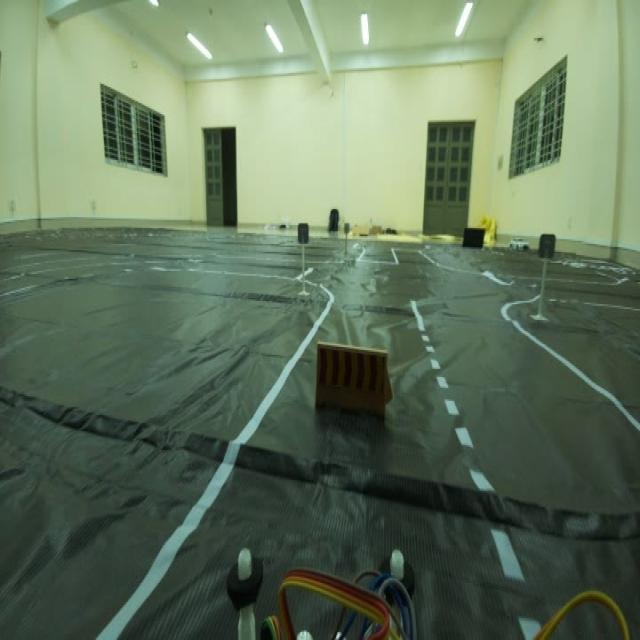roadblock: (308, 336, 396, 428)
